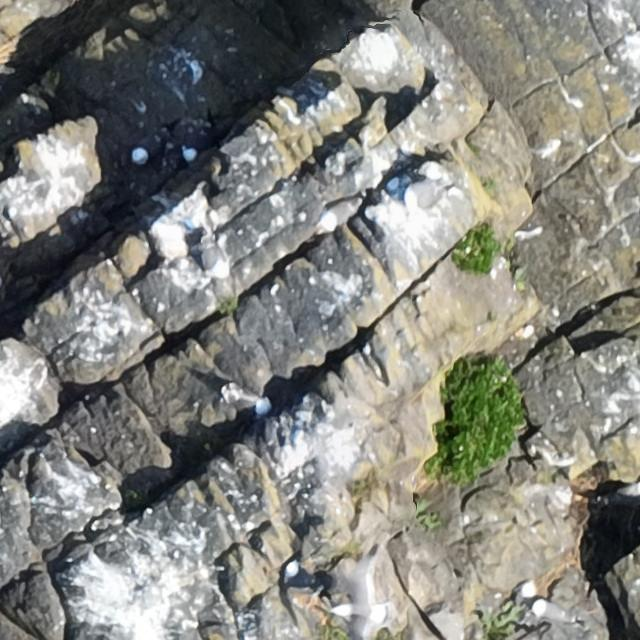F: (330, 552, 397, 637)
umineko: (319, 196, 367, 231), (221, 386, 272, 417), (202, 233, 233, 281), (403, 181, 445, 214), (183, 126, 215, 166), (285, 564, 321, 591), (132, 133, 162, 158), (532, 603, 569, 622), (513, 581, 537, 609)
